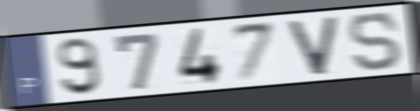4: (177, 26, 224, 87)
7: (111, 31, 161, 92), (232, 19, 277, 85)
9: (54, 36, 104, 98)
S: (347, 11, 405, 74)
V: (285, 14, 342, 78)
